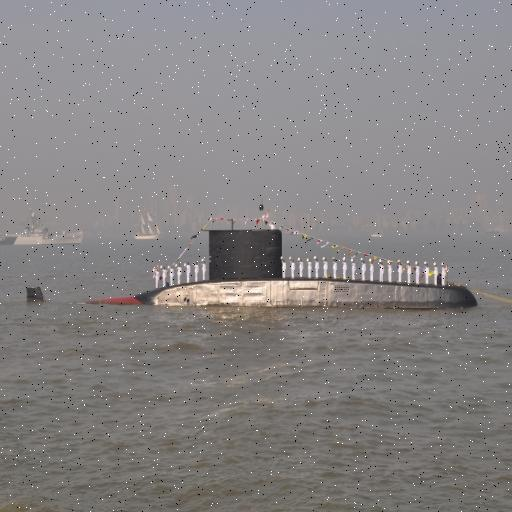submarine: (27, 224, 485, 306)
